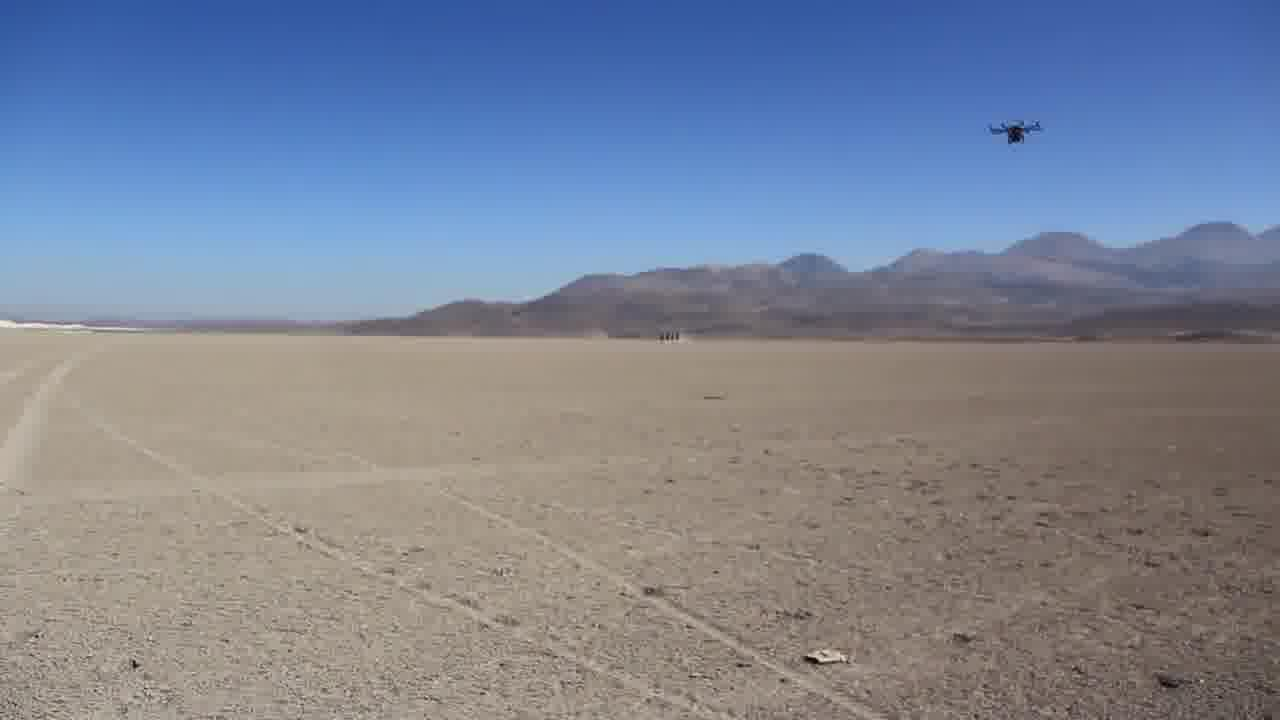Drone: (974, 109, 1054, 150)
